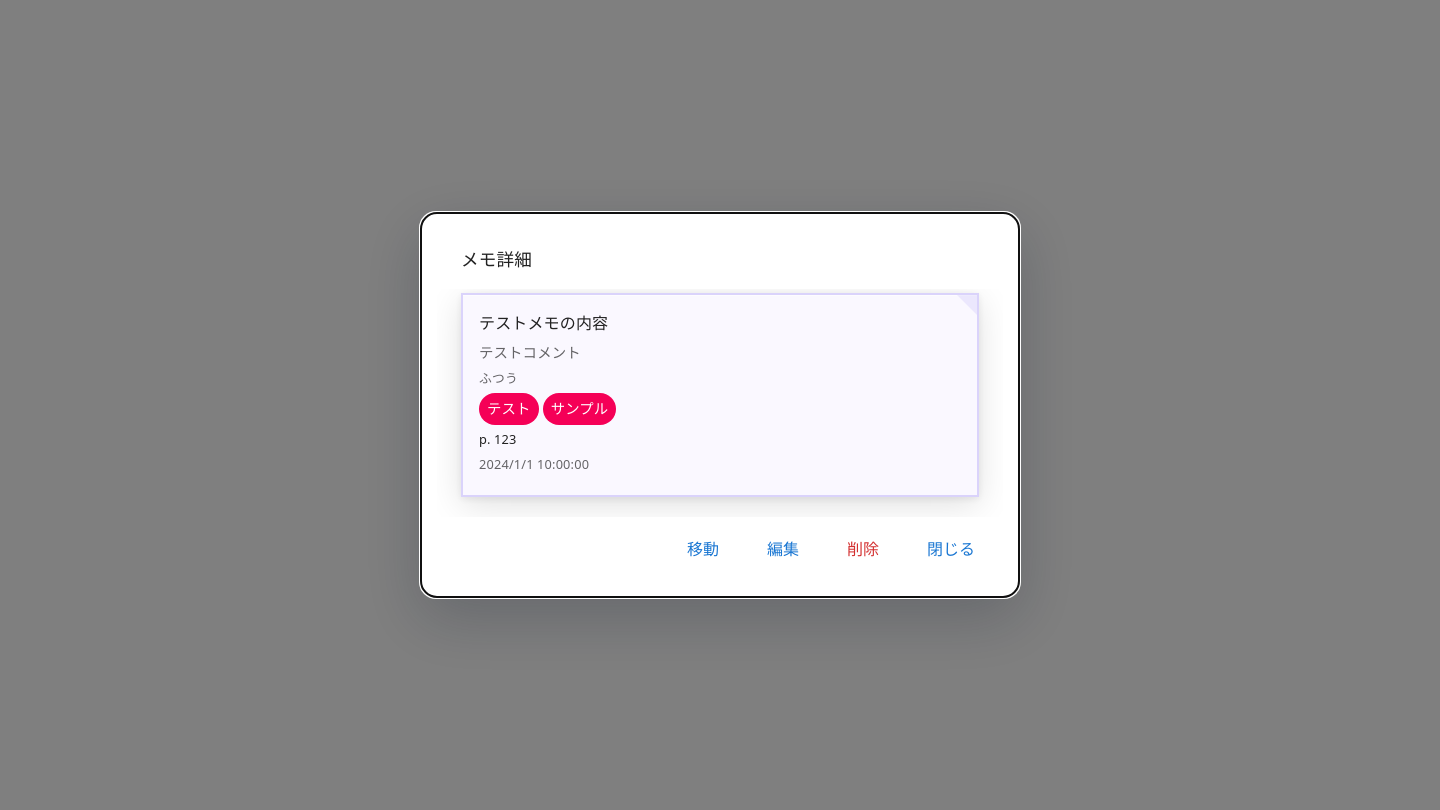
MemoEditor › shows edit form when edit button is clicked
// 編集ボタンをクリック
Click the button with test id "memo-edit-button".
click(783, 549)  # box [747, 525, 819, 573]
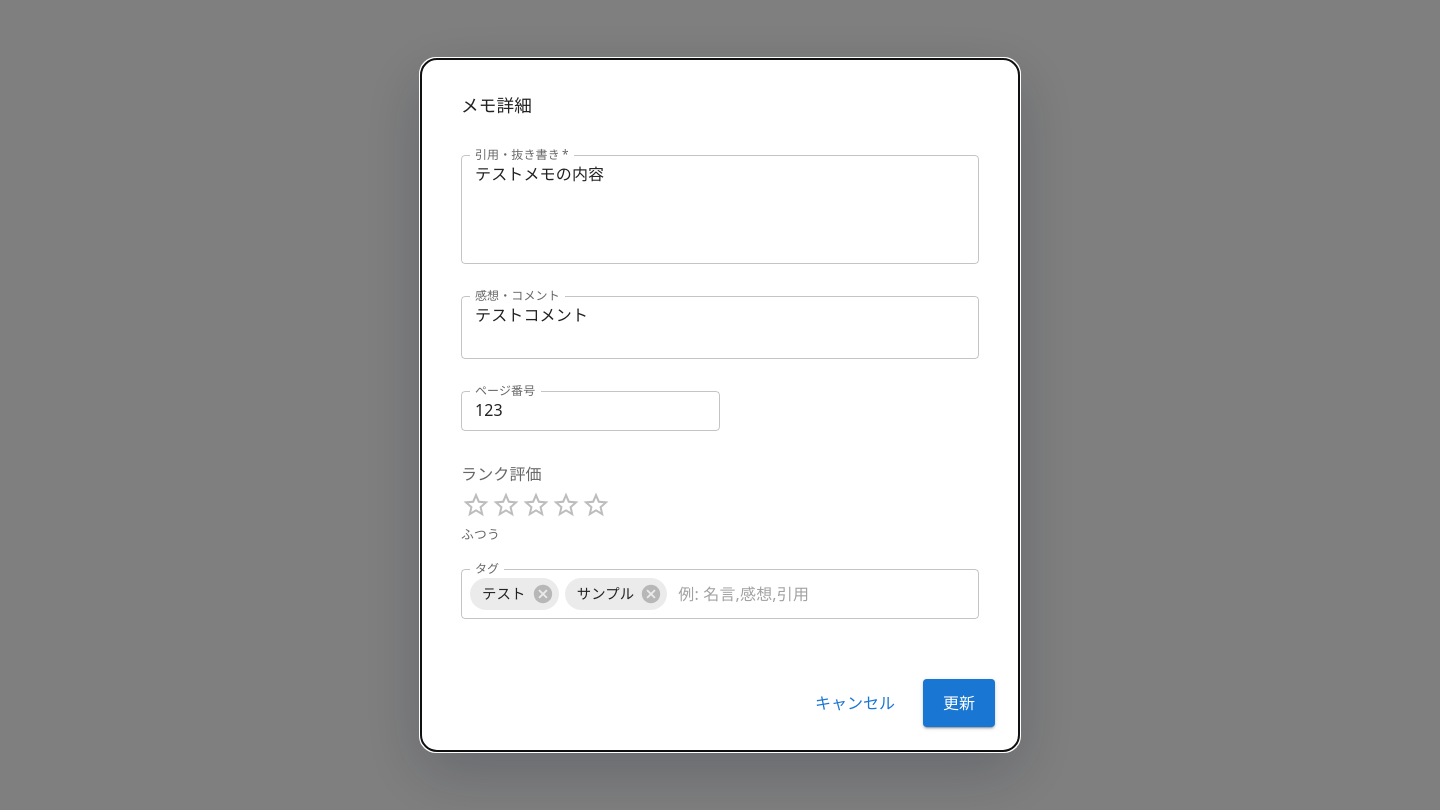
expect the text "引用・抜き書き" is shown: met, box [475, 146, 560, 162]
expect the text "感想・コメント" is shown 2 times: met
expect the text "ページ番号" is shown 2 times: met
